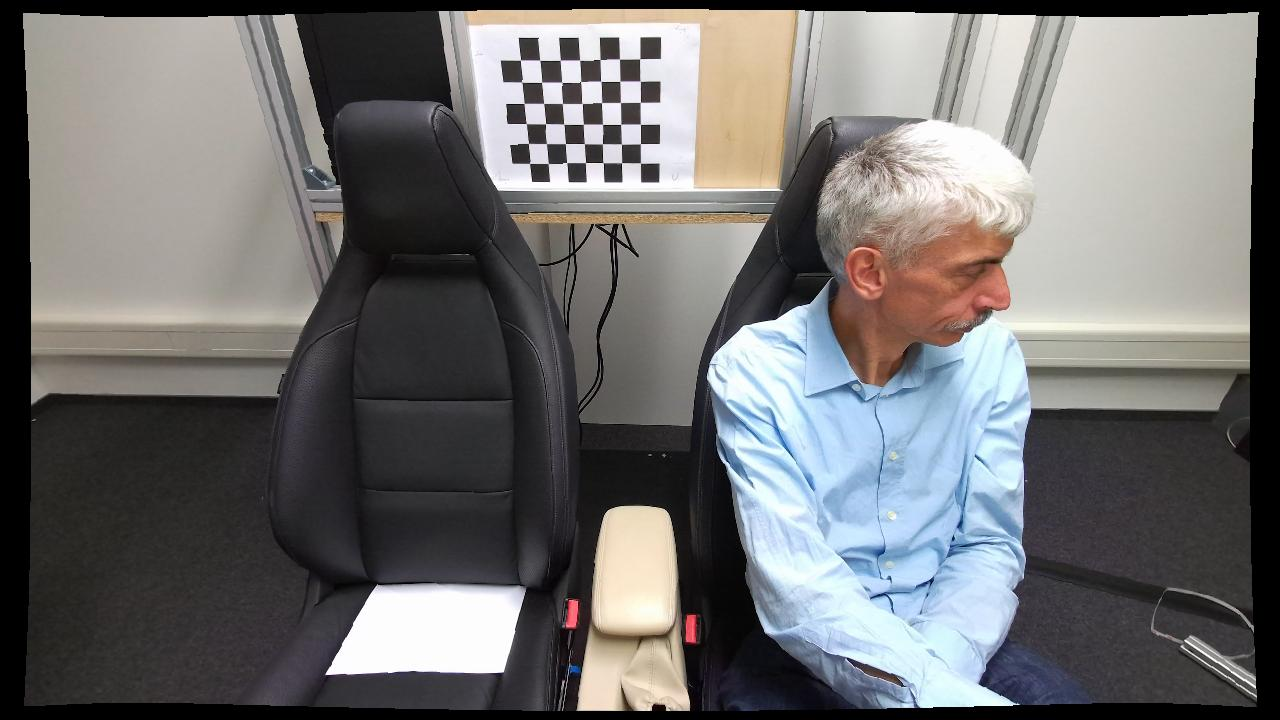Distracted: (705, 97, 1044, 709)
